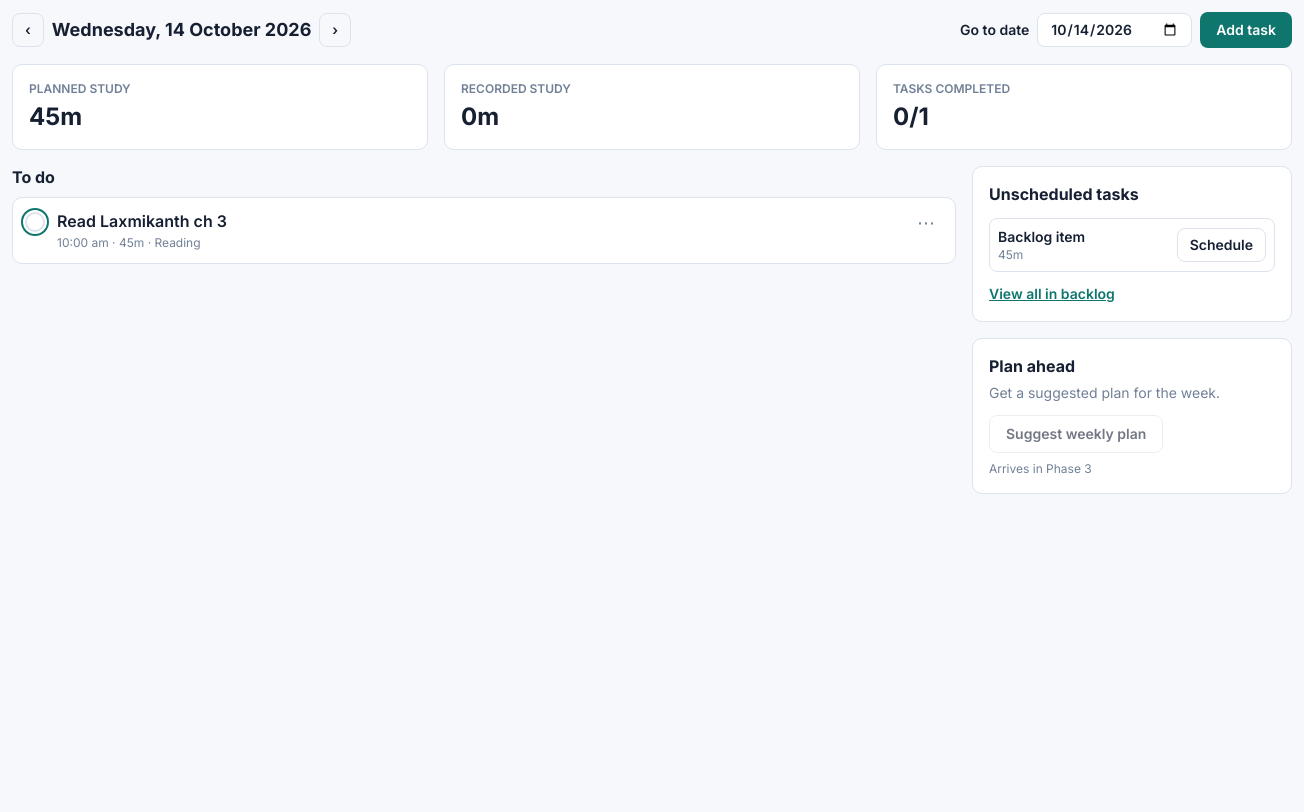
TodayView › rolls back and shows a banner when the API rejects
Click the button named "Mark Read Laxmikanth ch 3 complete": click(35, 222) top-left (25, 212), bottom-right (45, 232)
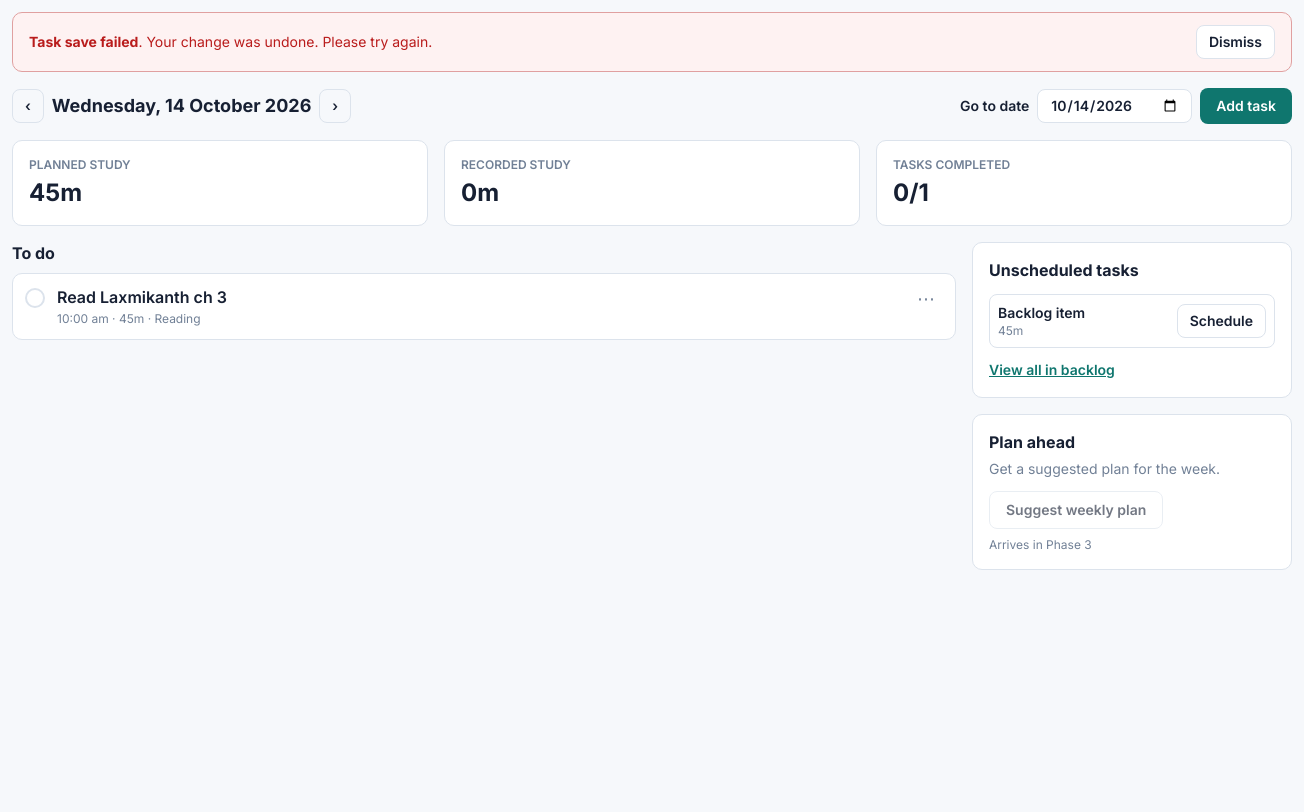
expect the text "Read Laxmikanth ch 3" is shown: met, box top-left (57, 286), bottom-right (227, 309)
expect the text "Task save failed" is shown: met, box top-left (29, 33), bottom-right (138, 50)
